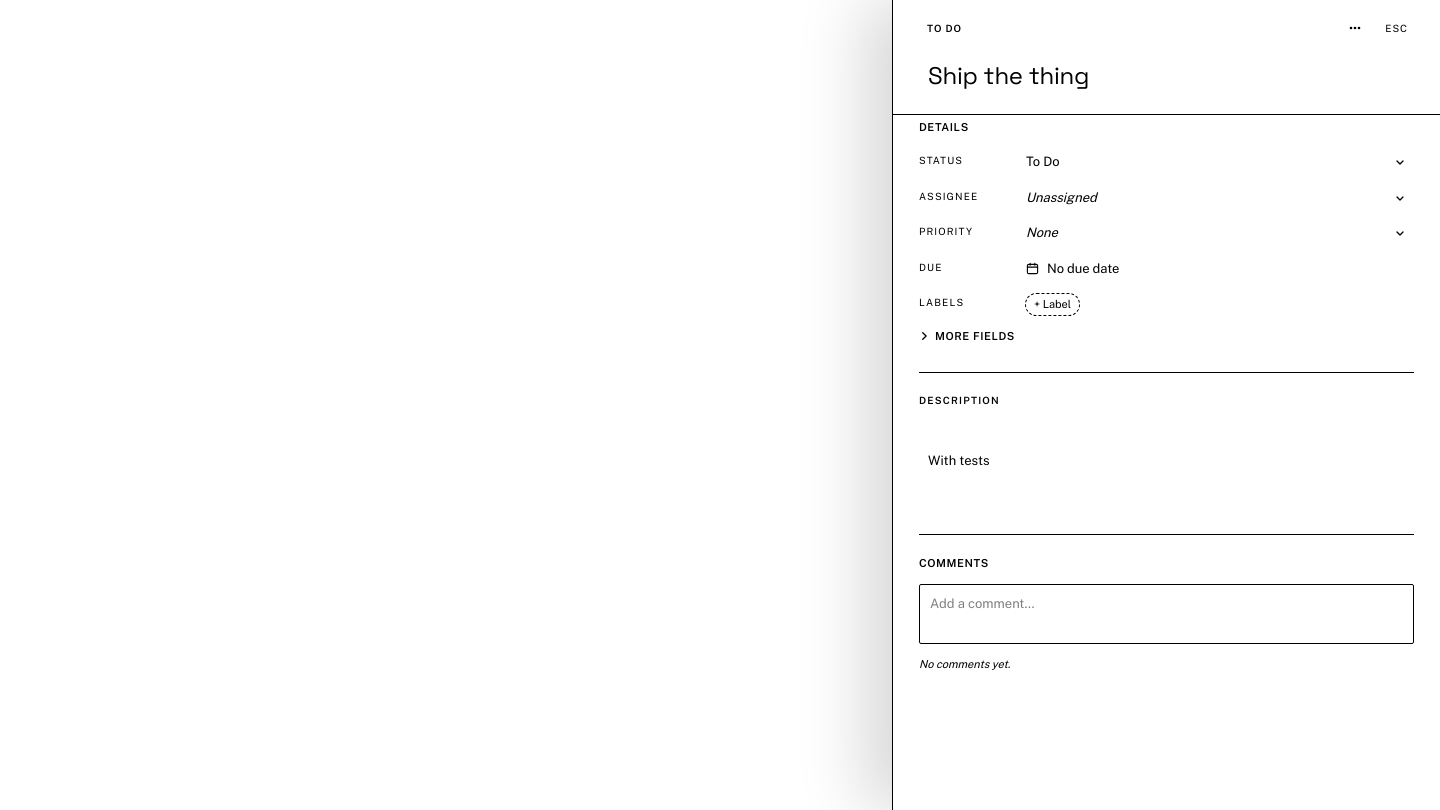
Test case: CardDetailModal — failure lands on the field › reverts the summary and explains next to it (S3.2, S3.6)
Click the button with aria-label "Summary" at point(1009, 76), box [919,54,1414,98]
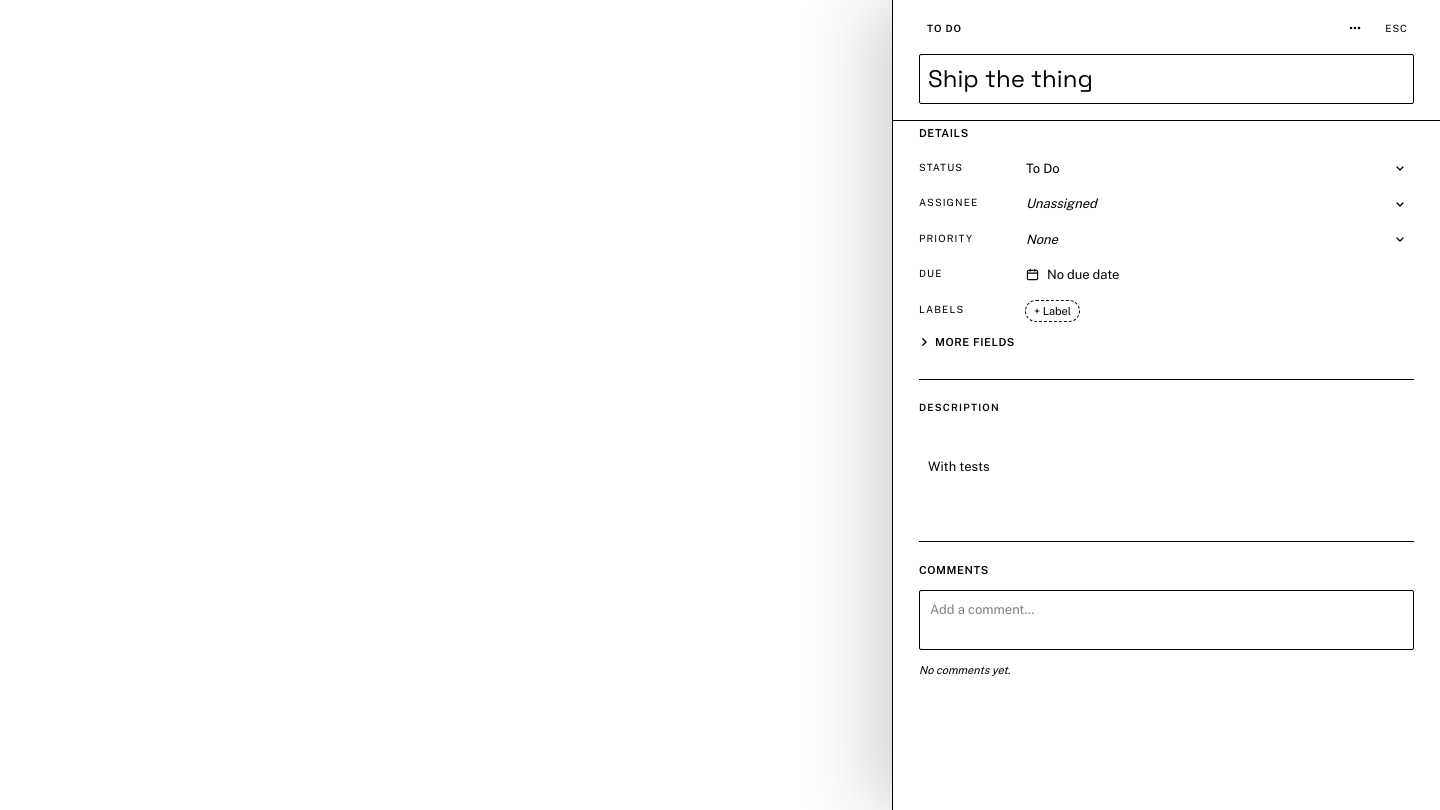
Type keys "!{Enter}"
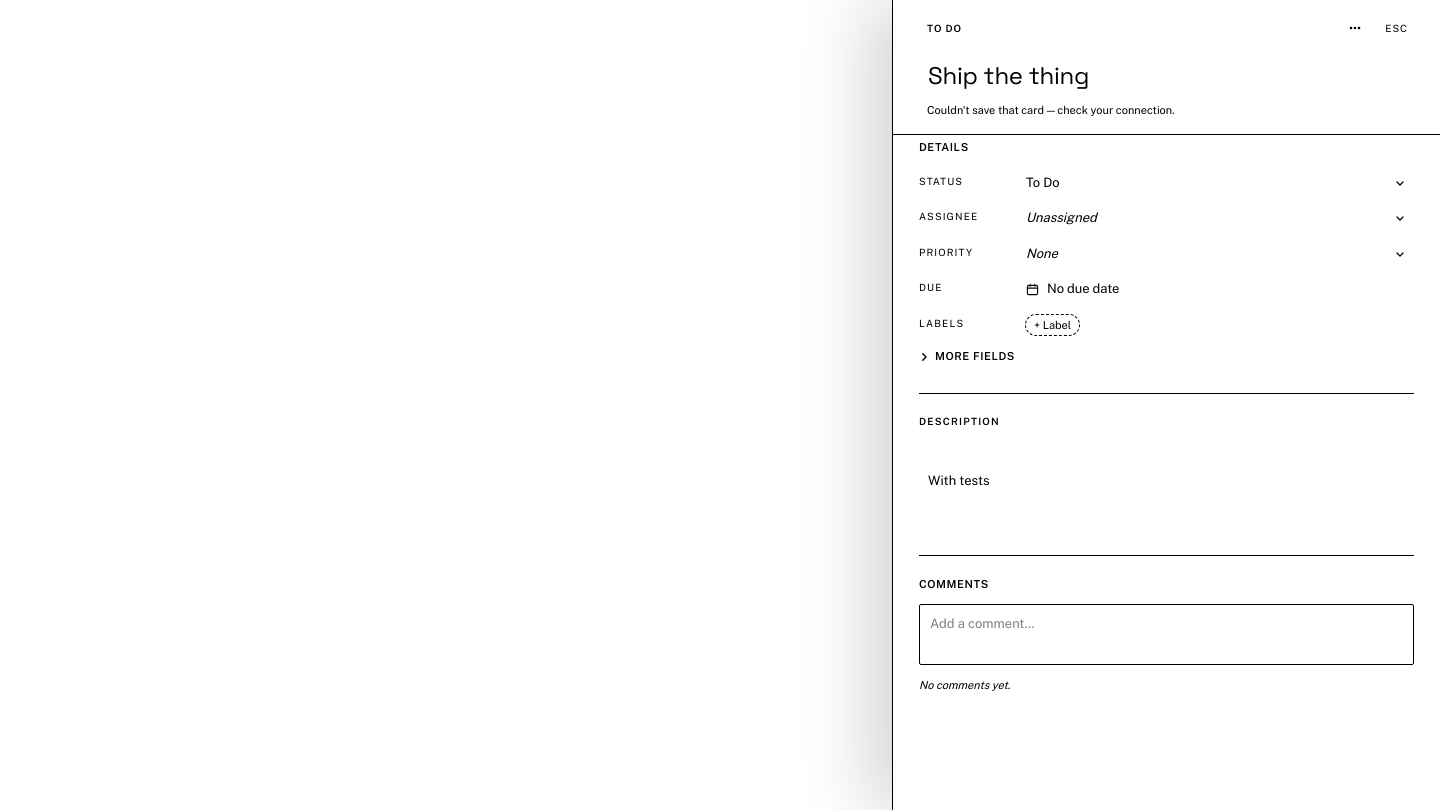
Result: the message shows "check your connection" at [927,104,1175,116]
Result: the button with aria-label "Summary" reads "Ship the thing" at [919,54,1414,98]
